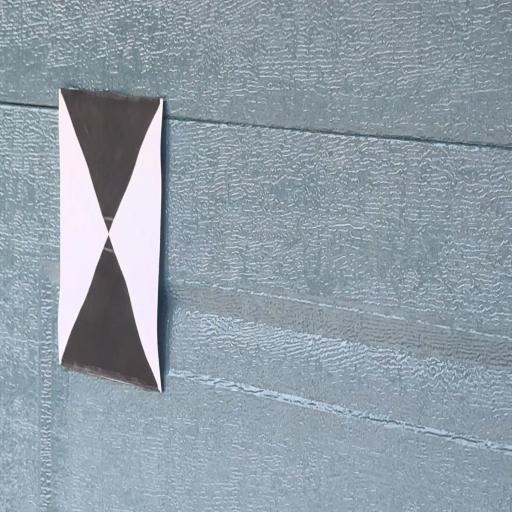target: (59, 88, 164, 391)
